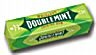grozi_6: (3, 2, 93, 55)
